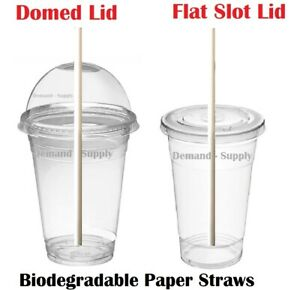plastic_bottle: (14, 58, 139, 271), (157, 99, 267, 273)
